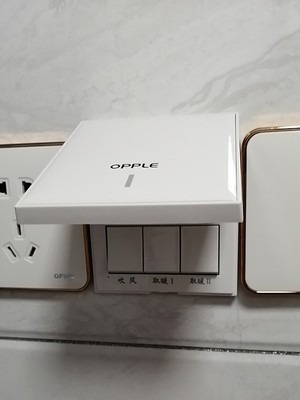switch: (178, 223, 224, 280), (141, 223, 185, 275), (104, 224, 147, 276)
